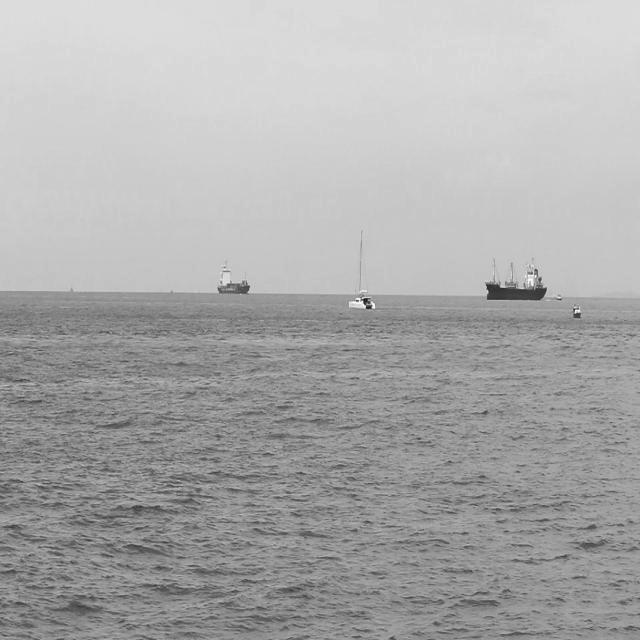ship: (484, 257, 547, 301), (348, 228, 377, 311), (216, 258, 252, 296), (572, 302, 582, 319), (552, 293, 564, 301)
